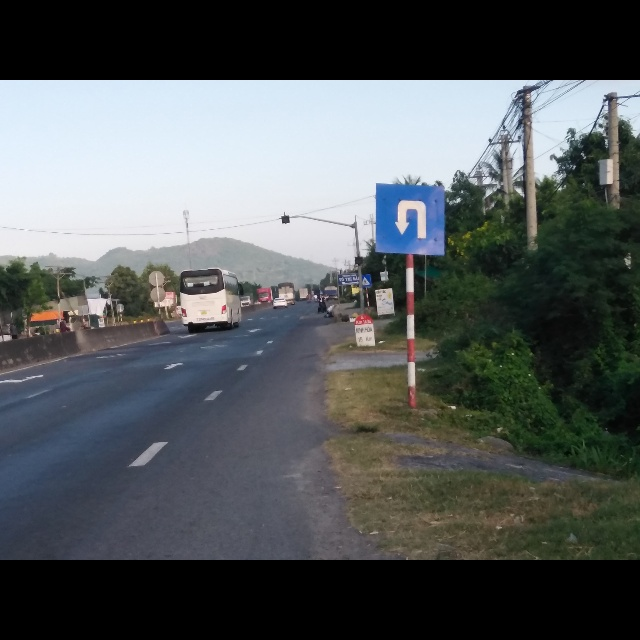Khu vực quay đầu xe: (374, 184, 447, 259)
